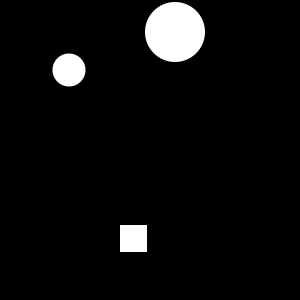circle: (120, 225, 147, 252)
rectangle: (145, 2, 205, 62), (53, 54, 86, 86)
